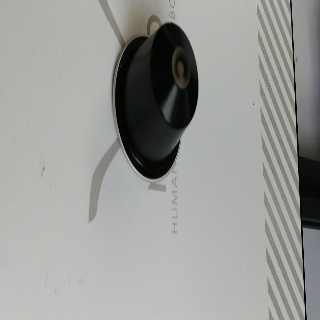capsule_10: (111, 20, 199, 184)
